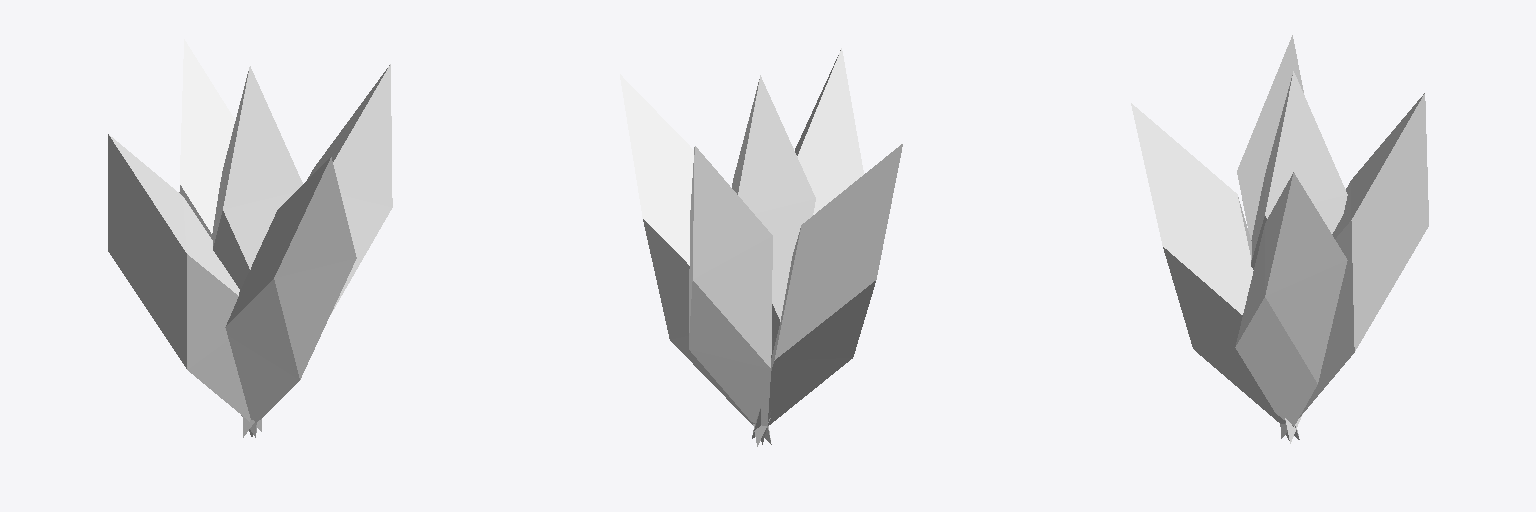
File: quartz_crystal.obj
The picture shows the model from 3 angles: view 1: azimuth 30°, elevation 25°; view 2: azimuth 150°, elevation 25°; view 3: azimuth 270°, elevation 25°; orthographic projection.
Parts seen in each view (by area): view 1: 3, 5, 1, 4, 2; view 2: 3, 2, 4, 1, 5; view 3: 5, 4, 2, 1, 3.
Part boxes in pixels (bbox=[...]): 3: bbox=[108, 134, 261, 431]; 5: bbox=[225, 157, 356, 422]; 1: bbox=[211, 66, 302, 436]; 4: bbox=[243, 64, 392, 437]; 2: bbox=[179, 39, 256, 437]; 3: bbox=[752, 144, 902, 438]; 2: bbox=[689, 146, 772, 427]; 4: bbox=[620, 74, 771, 444]; 1: bbox=[732, 75, 815, 444]; 5: bbox=[753, 48, 863, 446]; 5: bbox=[1131, 103, 1299, 439]; 4: bbox=[1235, 172, 1347, 425]; 2: bbox=[1280, 93, 1428, 438]; 1: bbox=[1251, 71, 1347, 440]; 3: bbox=[1237, 35, 1303, 443].
Size of the model in its own units: 0.7264 by 0.91 by 0.6628.